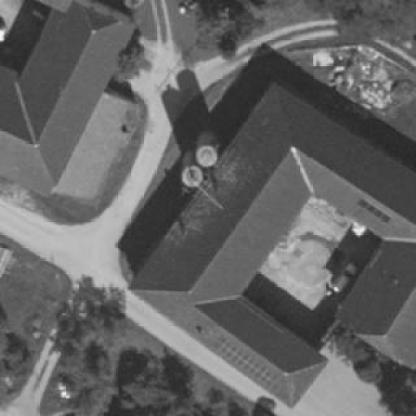solar-pv-panel: (212, 336, 279, 390), (358, 198, 392, 226)
